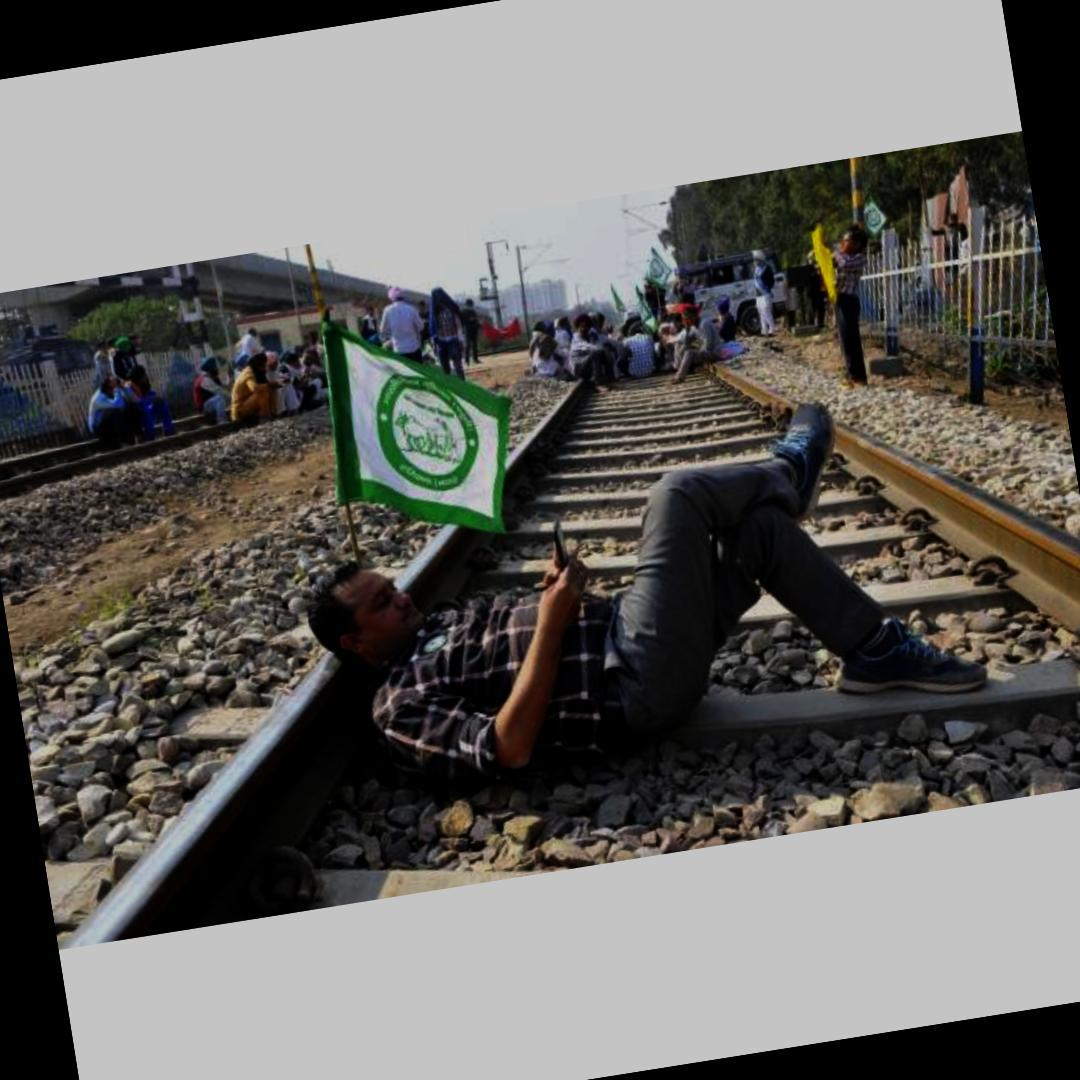sitting: (512, 282, 744, 404), (221, 346, 291, 425)
sleeping: (286, 375, 992, 805)
standing: (808, 220, 892, 389), (80, 369, 149, 451), (374, 283, 436, 372), (746, 245, 786, 336)
track: (54, 354, 1080, 950)
